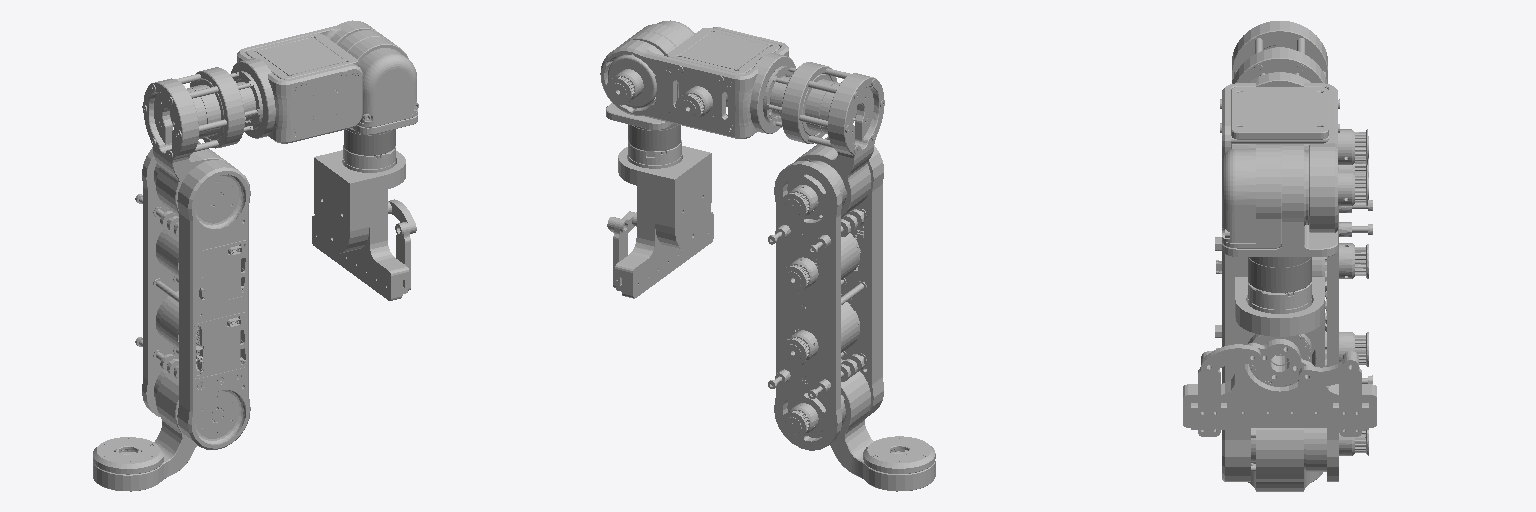
The robot description file, URDF, robot "manipulator":
<?xml version="1.0" encoding="utf-8"?>
<!-- This URDF was automatically created by SolidWorks to URDF Exporter! Originally created by Stephen Brawner (brawner@gmail.com) 
     Commit Version: 1.6.0-4-g7f85cfe  Build Version: 1.6.7995.38578
     For more information, please see http://wiki.ros.org/sw_urdf_exporter -->
<robot
  name="manipulator">
  <link
    name="base_link">
    <inertial>
      <origin
        xyz="-0.0900189764645956 0.000649352921620301 0.0688904601116507"
        rpy="0 0 0" />
      <mass
        value="4.57082606578104" />
      <inertia
        ixx="0.00724814588488116"
        ixy="2.56413170215366E-06"
        ixz="0.000190723101370851"
        iyy="0.0120730740519994"
        iyz="-3.68016466466456E-07"
        izz="0.0184704489954834" />
    </inertial>
    <visual>
      <origin
        xyz="0 0 0"
        rpy="0 0 0" />
      <geometry>
        <mesh
          filename="package://manipulator_description/meshes/base_link.STL" />
      </geometry>
      <material
        name="">
        <color
          rgba="0.752941176470588 0.752941176470588 0.752941176470588 1" />
      </material>
    </visual>
    <collision>
      <origin
        xyz="0 0 0"
        rpy="0 0 0" />
      <geometry>
        <mesh
          filename="package://manipulator_description/meshes/base_link.STL" />
      </geometry>
    </collision>
  </link>
  <link
    name="link1">
    <inertial>
      <origin
        xyz="0.0460351193300182 0.000664287195140079 0.154506956872591"
        rpy="0 0 0" />
      <mass
        value="0.254561487975799" />
      <inertia
        ixx="0.000120472928076238"
        ixy="2.26543583769741E-06"
        ixz="-6.10454618895842E-05"
        iyy="0.000220909895675933"
        iyz="2.36014610913684E-06"
        izz="0.000147238974921357" />
    </inertial>
    <visual>
      <origin
        xyz="0 0 0"
        rpy="0 0 0" />
      <geometry>
        <mesh
          filename="package://manipulator_description/meshes/link1.STL" />
      </geometry>
      <material
        name="">
        <color
          rgba="0.752941176470588 0.752941176470588 0.752941176470588 1" />
      </material>
    </visual>
    <collision>
      <origin
        xyz="0 0 0"
        rpy="0 0 0" />
      <geometry>
        <mesh
          filename="package://manipulator_description/meshes/link1.STL" />
      </geometry>
    </collision>
  </link>
  <joint
    name="joint1"
    type="revolute">
    <origin
      xyz="0 0 0"
      rpy="0 0 0" />
    <parent
      link="base_link" />
    <child
      link="link1" />
    <axis
      xyz="0 0 -1" />
    <limit
      lower="-3.14"
      upper="3.14"
      effort="100"
      velocity="1" />
  </joint>
  <link
    name="link2">
    <inertial>
      <origin
        xyz="1.80392507294347E-05 0.089980612315841 -0.0129528394303072"
        rpy="0 0 0" />
      <mass
        value="1.04400658098434" />
      <inertia
        ixx="0.00385525013994589"
        ixy="-6.68725878676148E-09"
        ixz="2.99491799048462E-08"
        iyy="0.000244306702463398"
        iyz="-3.58686064304757E-08"
        izz="0.00406415538149286" />
    </inertial>
    <visual>
      <origin
        xyz="0 0 0"
        rpy="0 0 0" />
      <geometry>
        <mesh
          filename="package://manipulator_description/meshes/link2.STL" />
      </geometry>
      <material
        name="">
        <color
          rgba="0.752941176470588 0.752941176470588 0.752941176470588 1" />
      </material>
    </visual>
    <collision>
      <origin
        xyz="0 0 0"
        rpy="0 0 0" />
      <geometry>
        <mesh
          filename="package://manipulator_description/meshes/link2.STL" />
      </geometry>
    </collision>
  </link>
  <joint
    name="joint2"
    type="revolute">
    <origin
      xyz="0.0600000000000004 0 0.166403000000002"
      rpy="1.5707963267949 0 0" />
    <parent
      link="link1" />
    <child
      link="link2" />
    <axis
      xyz="0 0 1" />
    <limit
      lower="-3.14"
      upper="3.14"
      effort="100"
      velocity="1" />
  </joint>
  <link
    name="link3">
    <inertial>
      <origin
        xyz="0.0301224569912638 0.00088359911768579 -0.000516713303727967"
        rpy="0 0 0" />
      <mass
        value="0.360136694537505" />
      <inertia
        ixx="0.000113282281754181"
        ixy="-6.31617808768842E-05"
        ixz="4.0937724948034E-06"
        iyy="0.00029676895594374"
        iyz="1.65323507515529E-06"
        izz="0.000310858877897744" />
    </inertial>
    <visual>
      <origin
        xyz="0 0 0"
        rpy="0 0 0" />
      <geometry>
        <mesh
          filename="package://manipulator_description/meshes/link3.STL" />
      </geometry>
      <material
        name="">
        <color
          rgba="0.752941176470588 0.752941176470588 0.752941176470588 1" />
      </material>
    </visual>
    <collision>
      <origin
        xyz="0 0 0"
        rpy="0 0 0" />
      <geometry>
        <mesh
          filename="package://manipulator_description/meshes/link3.STL" />
      </geometry>
    </collision>
  </link>
  <joint
    name="joint3"
    type="revolute">
    <origin
      xyz="0 0.179999999999999 0"
      rpy="0 0 1.5707963267949" />
    <parent
      link="link2" />
    <child
      link="link3" />
    <axis
      xyz="0 0 1" />
    <limit
      lower="-3.14"
      upper="3.14"
      effort="100"
      velocity="1" />
  </joint>
  <link
    name="link4">
    <inertial>
      <origin
        xyz="0.00207111442506586 -0.00872426378175275 0.0945125492848449"
        rpy="0 0 0" />
      <mass
        value="0.455053086420313" />
      <inertia
        ixx="0.000720997881322542"
        ixy="5.04373361969945E-09"
        ixz="-7.51186752682352E-08"
        iyy="0.000586014625148737"
        iyz="0.000117229790415013"
        izz="0.000286461363141707" />
    </inertial>
    <visual>
      <origin
        xyz="0 0 0"
        rpy="0 0 0" />
      <geometry>
        <mesh
          filename="package://manipulator_description/meshes/link4.STL" />
      </geometry>
      <material
        name="">
        <color
          rgba="0.752941176470588 0.752941176470588 0.752941176470588 1" />
      </material>
    </visual>
    <collision>
      <origin
        xyz="0 0 0"
        rpy="0 0 0" />
      <geometry>
        <mesh
          filename="package://manipulator_description/meshes/link4.STL" />
      </geometry>
    </collision>
  </link>
  <joint
    name="joint4"
    type="revolute">
    <origin
      xyz="0.06 0 0"
      rpy="1.5707963267949 0 0" />
    <parent
      link="link3" />
    <child
      link="link4" />
    <axis
      xyz="0 0 -1" />
    <limit
      lower="-3.14"
      upper="3.14"
      effort="100"
      velocity="1" />
  </joint>
  <link
    name="link5">
    <inertial>
      <origin
        xyz="0.0120838028018385 5.29755239675467E-10 0.0017616210499789"
        rpy="0 0 0" />
      <mass
        value="0.1919643786863" />
      <inertia
        ixx="7.82682988302083E-05"
        ixy="-9.7455066765594E-13"
        ixz="-3.05349683997731E-06"
        iyy="9.74815417100329E-05"
        iyz="-1.19556408776339E-12"
        izz="0.000110368050940256" />
    </inertial>
    <visual>
      <origin
        xyz="0 0 0"
        rpy="0 0 0" />
      <geometry>
        <mesh
          filename="package://manipulator_description/meshes/link5.STL" />
      </geometry>
      <material
        name="">
        <color
          rgba="0.752941176470588 0.752941176470588 0.752941176470588 1" />
      </material>
    </visual>
    <collision>
      <origin
        xyz="0 0 0"
        rpy="0 0 0" />
      <geometry>
        <mesh
          filename="package://manipulator_description/meshes/link5.STL" />
      </geometry>
    </collision>
  </link>
  <joint
    name="joint5"
    type="revolute">
    <origin
      xyz="0 0 0.151"
      rpy="1.5707963267949 0 -3.14159265358979" />
    <parent
      link="link4" />
    <child
      link="link5" />
    <axis
      xyz="0 0 1" />
    <limit
      lower="-3.14"
      upper="3.14"
      effort="100"
      velocity="1" />
  </joint>
  <link
    name="link6">
    <inertial>
      <origin
        xyz="0.00017441390333478 -8.95910294932365E-05 0.0479239640265615"
        rpy="0 0 0" />
      <mass
        value="0.00925955633264145" />
      <inertia
        ixx="1.33715235113203E-06"
        ixy="-3.3412849341875E-08"
        ixz="2.63241803018795E-09"
        iyy="1.34917791267447E-06"
        iyz="-1.78873030816875E-09"
        izz="2.46287865404216E-06" />
    </inertial>
    <visual>
      <origin
        xyz="0 0 0"
        rpy="0 0 0" />
      <geometry>
        <mesh
          filename="package://manipulator_description/meshes/link6.STL" />
      </geometry>
      <material
        name="">
        <color
          rgba="0.6 0.6 0.6 1" />
      </material>
    </visual>
    <collision>
      <origin
        xyz="0 0 0"
        rpy="0 0 0" />
      <geometry>
        <mesh
          filename="package://manipulator_description/meshes/link6.STL" />
      </geometry>
    </collision>
  </link>
  <joint
    name="joint6"
    type="revolute">
    <origin
      xyz="0 0 0"
      rpy="1.5707963267949 0 1.5707963267949" />
    <parent
      link="link5" />
    <child
      link="link6" />
    <axis
      xyz="0 0 1" />
    <limit
      lower="-3.14"
      upper="3.14"
      effort="100"
      velocity="1" />
  </joint>
  <link
    name="link_hand">
    <inertial>
      <origin
        xyz="-0.00139139563993723 -0.00180513570840485 -0.00989424491799901"
        rpy="0 0 0" />
      <mass
        value="0.184940871711744" />
      <inertia
        ixx="0.000118512503877906"
        ixy="1.91321875551986E-08"
        ixz="2.28806582015251E-08"
        iyy="0.000103524975403197"
        iyz="1.60835929412105E-06"
        izz="0.000181351552494407" />
    </inertial>
    <visual>
      <origin
        xyz="0 0 0"
        rpy="0 0 0" />
      <geometry>
        <mesh
          filename="package://manipulator_description/meshes/link_hand.STL" />
      </geometry>
      <material
        name="">
        <color
          rgba="0.752941176470588 0.752941176470588 0.752941176470588 1" />
      </material>
    </visual>
    <collision>
      <origin
        xyz="0 0 0"
        rpy="0 0 0" />
      <geometry>
        <mesh
          filename="package://manipulator_description/meshes/link_hand.STL" />
      </geometry>
    </collision>
  </link>
  <joint
    name="joint_hand"
    type="fixed">
    <origin
      xyz="0 0 0.11564"
      rpy="1.5708 0 1.5708" />
    <parent
      link="link6" />
    <child
      link="link_hand" />
    <axis
      xyz="0 0 0" />
    <limit
      lower="-3.14"
      upper="3.14"
      effort="100"
      velocity="1" />
  </joint>
  <link
    name="link_right">
    <inertial>
      <origin
        xyz="-0.023301935377947 0.0387777189112534 0.00451745015192889"
        rpy="0 0 0" />
      <mass
        value="0.0056767224438465" />
      <inertia
        ixx="2.77307775534538E-07"
        ixy="4.43872716727828E-08"
        ixz="-7.28096014584253E-09"
        iyy="8.58071604210895E-07"
        iyz="-2.77409495210062E-22"
        izz="1.1058335197716E-06" />
    </inertial>
    <visual>
      <origin
        xyz="0 0 0"
        rpy="0 0 0" />
      <geometry>
        <mesh
          filename="package://manipulator_description/meshes/link_right.STL" />
      </geometry>
      <material
        name="">
        <color
          rgba="0.752941176470588 0.752941176470588 0.752941176470588 1" />
      </material>
    </visual>
    <collision>
      <origin
        xyz="0 0 0"
        rpy="0 0 0" />
      <geometry>
        <mesh
          filename="package://manipulator_description/meshes/link_right.STL" />
      </geometry>
    </collision>
  </link>
  <joint
    name="joint_right"
    type="prismatic">
    <origin
      xyz="0 0.04 0.002"
      rpy="0 0 1.5708" />
    <parent
      link="link_hand" />
    <child
      link="link_right" />
    <axis
      xyz="0 -1 0" />
    <limit
      lower="0"
      upper="0.05"
      effort="100"
      velocity="1" />
  </joint>
  <link
    name="link_left">
    <inertial>
      <origin
        xyz="0.0273678309195227 0.0387777189112687 0.00451745015192828"
        rpy="0 0 0" />
      <mass
        value="0.00567672244384649" />
      <inertia
        ixx="2.7730777553458E-07"
        ixy="4.43872716726978E-08"
        ixz="7.28096014584258E-09"
        iyy="8.58071604210852E-07"
        iyz="1.88549304310383E-22"
        izz="1.1058335197716E-06" />
    </inertial>
    <visual>
      <origin
        xyz="0 0 0"
        rpy="0 0 0" />
      <geometry>
        <mesh
          filename="package://manipulator_description/meshes/link_left.STL" />
      </geometry>
      <material
        name="">
        <color
          rgba="0.752941176470588 0.752941176470588 0.752941176470588 1" />
      </material>
    </visual>
    <collision>
      <origin
        xyz="0 0 0"
        rpy="0 0 0" />
      <geometry>
        <mesh
          filename="package://manipulator_description/meshes/link_left.STL" />
      </geometry>
    </collision>
  </link>
  <joint
    name="joint_left"
    type="prismatic">
    <origin
      xyz="0 0.04 0.002"
      rpy="0 0 -1.5708" />
    <parent
      link="link_hand" />
    <child
      link="link_left" />
    <axis
      xyz="0 -1 0" />
    <limit
      lower="0"
      upper="0.05"
      effort="100"
      velocity="1" />
    <mimic
      joint="joint_right"
      multiplier="1"
      offset="0" />
  </joint>
</robot>

--- What the picture shows (computed from the rendered views, not written in the file) ---
Views: 3 orthographic renders of the robot side by side, from view 1: azimuth 30°, elevation 25°; view 2: azimuth 150°, elevation 25°; view 3: azimuth 270°, elevation 25°.
Robot: manipulator — 10 links, 9 joints (6 revolute, 2 prismatic, 1 fixed); root link base_link; default pose: every joint at zero.
Links seen in each view (by area): view 1: link2, link4, link_hand, link3, link1, link5, link6, link_left; view 2: link2, link4, link3, link_hand, link1, link5, link6, link_right; view 3: link_hand, link4, link5, link2, link3, link1, link_left, link_right, link6.
Boxes of the visible links, x1,y1,x2,y2 form: link2: (135, 141, 250, 449); link4: (231, 20, 378, 143); link_hand: (312, 145, 408, 300); link3: (142, 67, 262, 215); link1: (93, 370, 196, 491); link5: (338, 30, 418, 134); link6: (344, 128, 395, 155); link_left: (389, 199, 416, 290); link2: (768, 136, 883, 450); link4: (600, 27, 795, 138); link3: (763, 62, 884, 219); link_hand: (615, 140, 713, 298); link1: (787, 359, 935, 491); link5: (606, 20, 694, 129); link6: (628, 123, 680, 150); link_right: (607, 211, 634, 287); link_hand: (1183, 277, 1376, 429); link4: (1220, 72, 1368, 232); link5: (1222, 144, 1337, 256); link2: (1215, 159, 1372, 481); link3: (1232, 21, 1327, 83); link1: (1248, 428, 1326, 491); link_left: (1198, 344, 1260, 436); link_right: (1299, 351, 1361, 436); link6: (1248, 257, 1311, 292).
Size in the robot's own frame: 0.2655 by 0.12 by 0.32 metres.
9 mesh visuals loaded from 10 distinct referenced files (9 binary STL); not drawn: 1 (reference not matched to a file when rendering).
